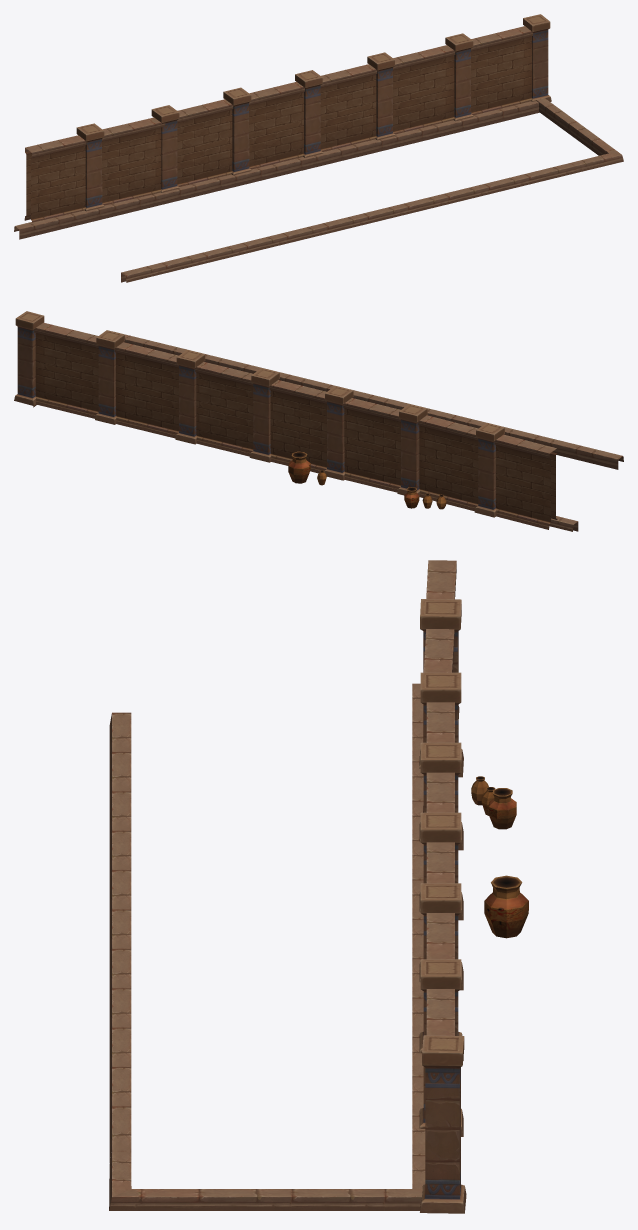
Rendered from Area_08_2.FBX.
3 renders of one model, top to bottom at view 1: azimuth 30°, elevation 25°; view 2: azimuth 150°, elevation 25°; view 3: azimuth 270°, elevation 25°, orthographic. The views are drawn at different scales.
Parts seen in each view (by area): view 1: Area_08_2; view 2: Area_08_2; view 3: Area_08_2.
Boxes of the visible parts, <box> form: Area_08_2: <box>14,14,623,282</box>; Area_08_2: <box>14,311,623,531</box>; Area_08_2: <box>109,560,528,1213</box>.
Bounding box in the file's own units: 3454 × 531 × 1173.
